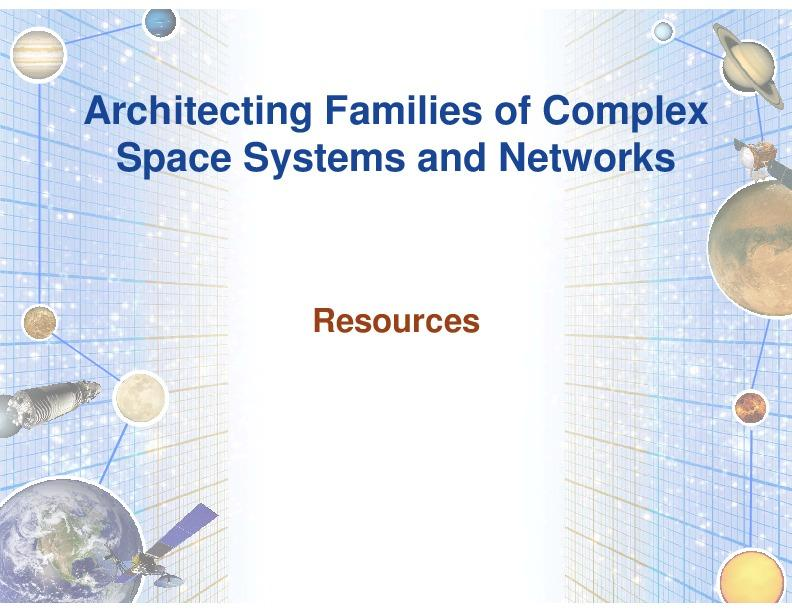subtitle: (308, 292, 494, 353)
title: (80, 80, 721, 194)
